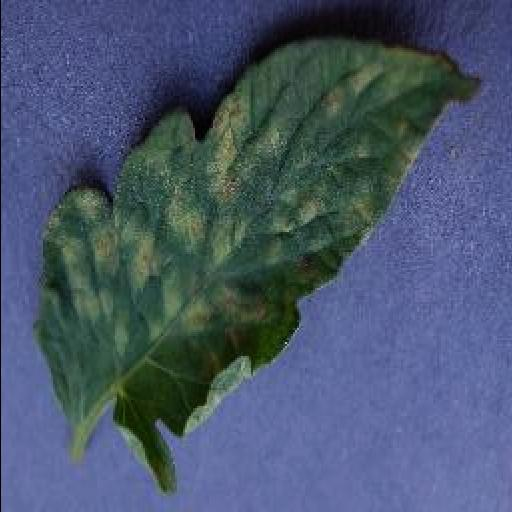disease_tomato: (26, 40, 482, 504)
